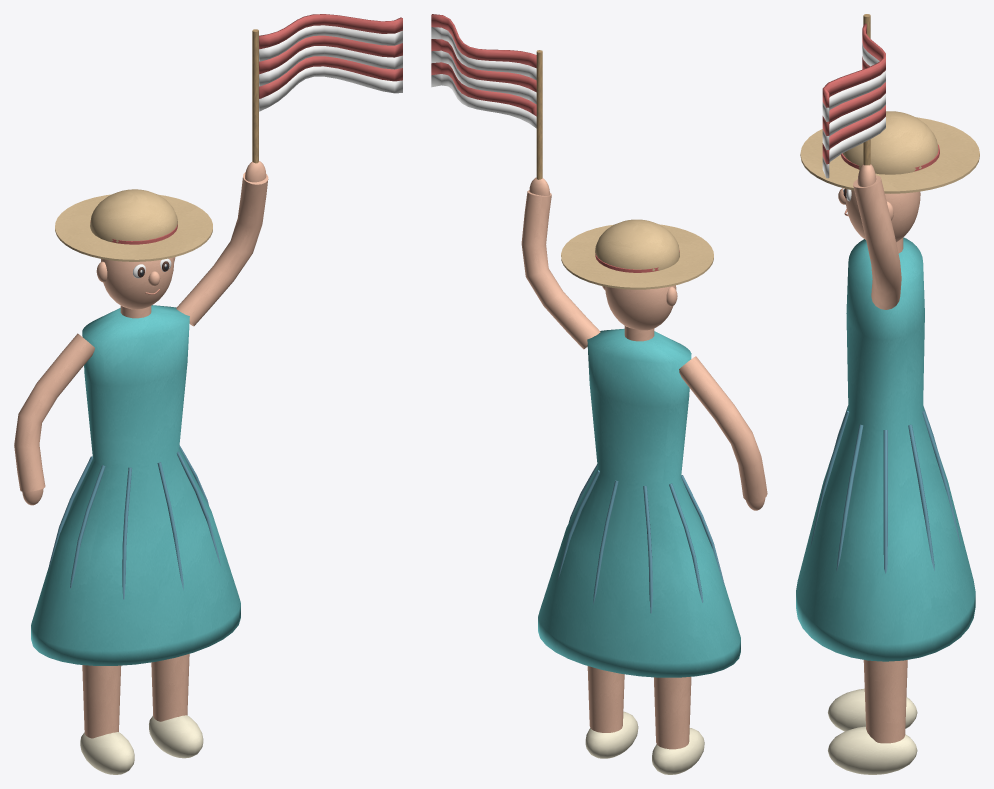
Rendered from spectator_3.glb.
3 views of the same model, side by side, from view 1: azimuth 30°, elevation 25°; view 2: azimuth 150°, elevation 25°; view 3: azimuth 270°, elevation 25° (orthographic). The views are drawn at different scales.
Visible parts, largest first — view 1: spectator_3; view 2: spectator_3; view 3: spectator_3.
Part boxes in pixels (left/top/right/bottom): spectator_3: left=14, top=14, right=402, bottom=774; spectator_3: left=431, top=14, right=767, bottom=774; spectator_3: left=796, top=14, right=979, bottom=774.
Bounding box in the file's own units: 1.27 × 2.36 × 0.492.
1 material, 1 textured.
